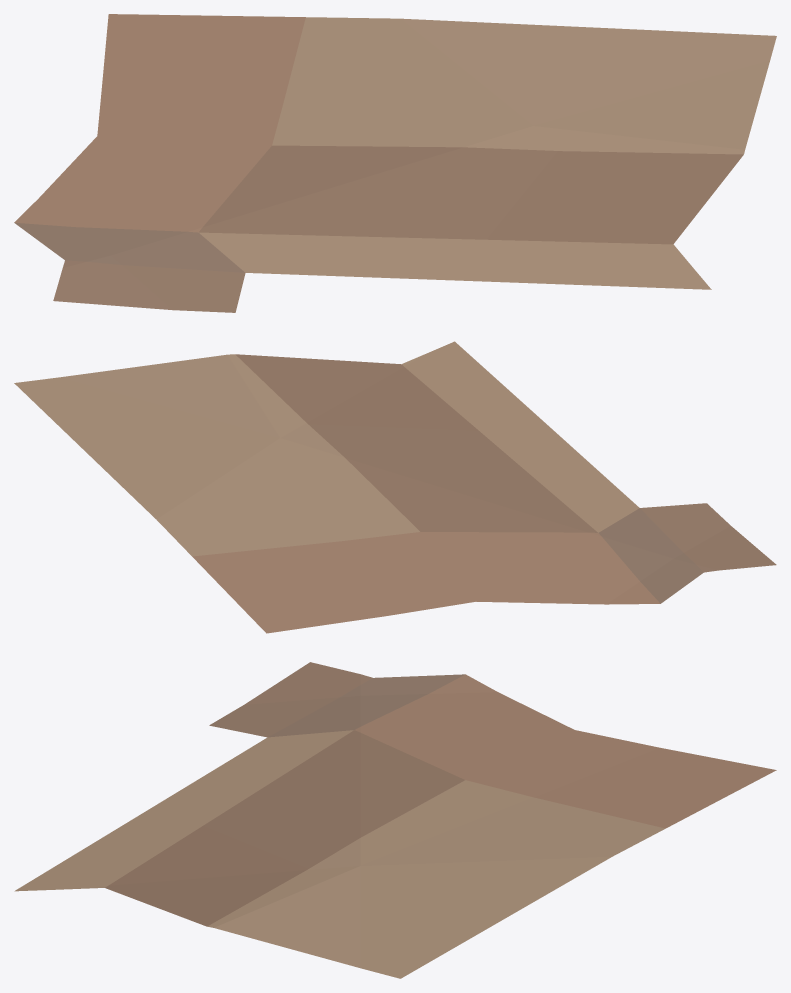
Rendered from farm_-8_1_soil.glb.
3 renders of one model, top to bottom at view 1: azimuth 30°, elevation 25°; view 2: azimuth 150°, elevation 25°; view 3: azimuth 270°, elevation 25°, orthographic. The views are drawn at different scales.
Parts seen in each view (by area): view 1: geometry_0; view 2: geometry_0; view 3: geometry_0.
Boxes of the visible parts, x1,y1,x2,y2 form: geometry_0: (14, 14, 776, 312); geometry_0: (14, 341, 776, 633); geometry_0: (14, 662, 776, 978).
Bounding box in the file's own units: 146 × 8.36 × 132.
